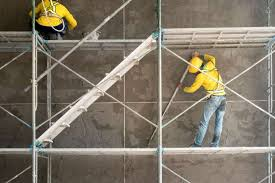hard hat: (188, 56, 203, 74)
